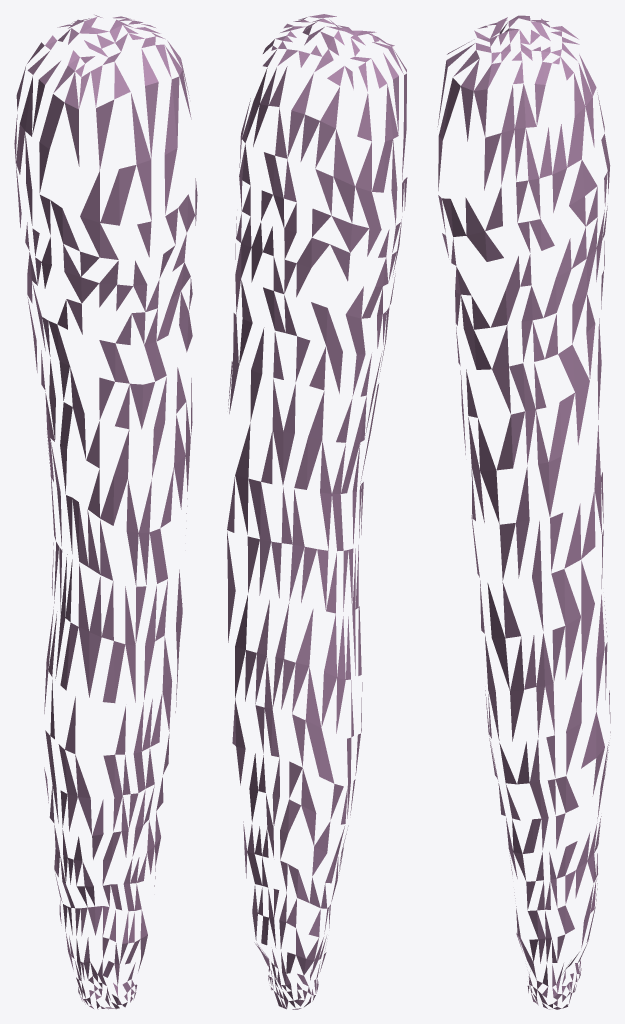
File: food_produce_freshCarrot_a04.glb
The picture shows the model from 3 angles, left to right: view 1: azimuth 30°, elevation 25°; view 2: azimuth 150°, elevation 25°; view 3: azimuth 270°, elevation 25°; orthographic projection. The views are drawn at different scales.
Visible parts, largest first — view 1: geometry_0; view 2: geometry_0; view 3: geometry_0.
Part boxes in pixels (bbox=[...]): geometry_0: bbox=[14, 14, 197, 1009]; geometry_0: bbox=[227, 14, 407, 1009]; geometry_0: bbox=[437, 15, 610, 1009].
Bounding box in the file's own units: 0.0802 × 0.48 × 0.0773.
